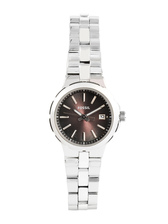watch: (46, 15, 128, 214)
